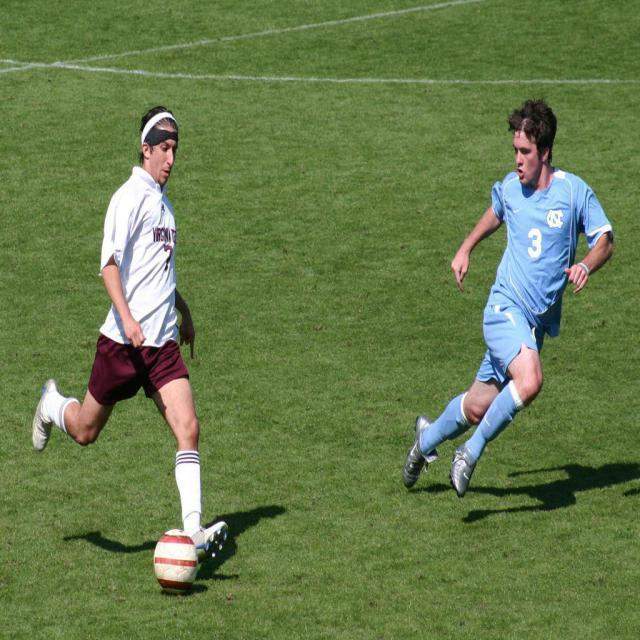football: (142, 530, 226, 599)
